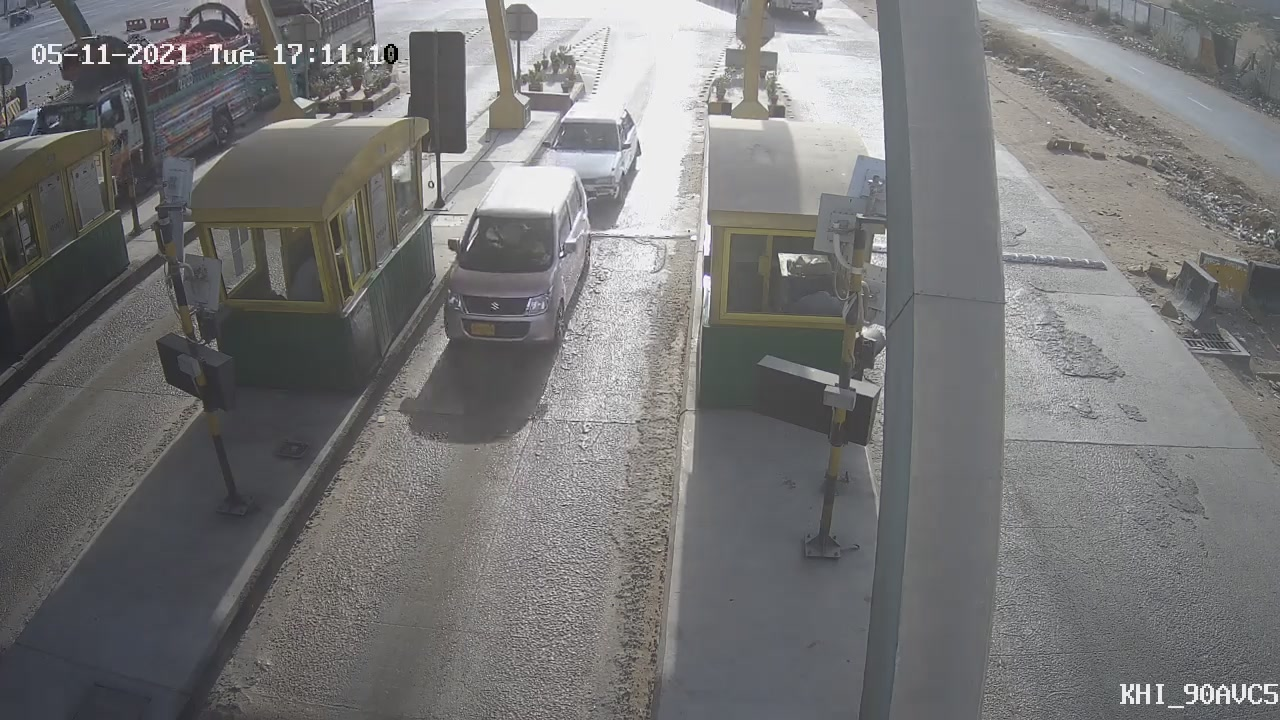F1: (418, 147, 608, 372)
